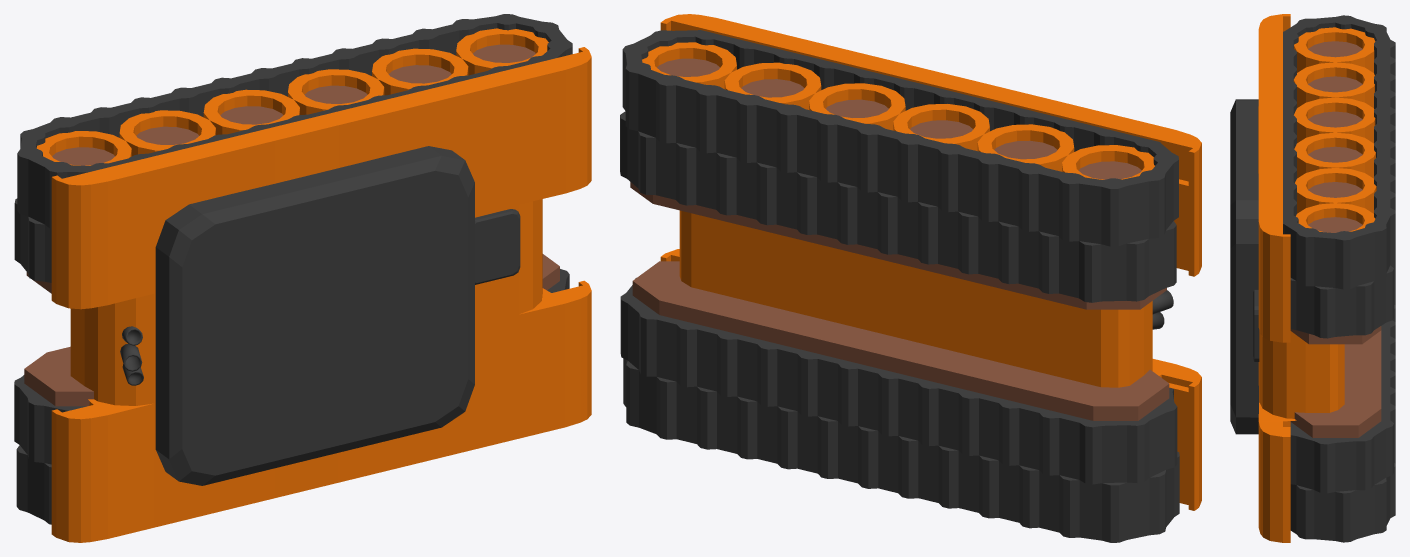
File: Tank_Orange_Base.glb
The picture shows the model from 3 angles, left to right: view 1: azimuth 30°, elevation 25°; view 2: azimuth 150°, elevation 25°; view 3: azimuth 270°, elevation 25°; orthographic projection. The views are drawn at different scales.
Visible parts, largest first — view 1: Tank_Orange_Base; view 2: Tank_Orange_Base; view 3: Tank_Orange_Base.
Part boxes in pixels (x1,y1,x2,y2): Tank_Orange_Base: (14, 14, 591, 542); Tank_Orange_Base: (620, 14, 1201, 542); Tank_Orange_Base: (1230, 14, 1395, 542).
Size of the model in its own units: 21.08 by 13.36 by 6.53.
